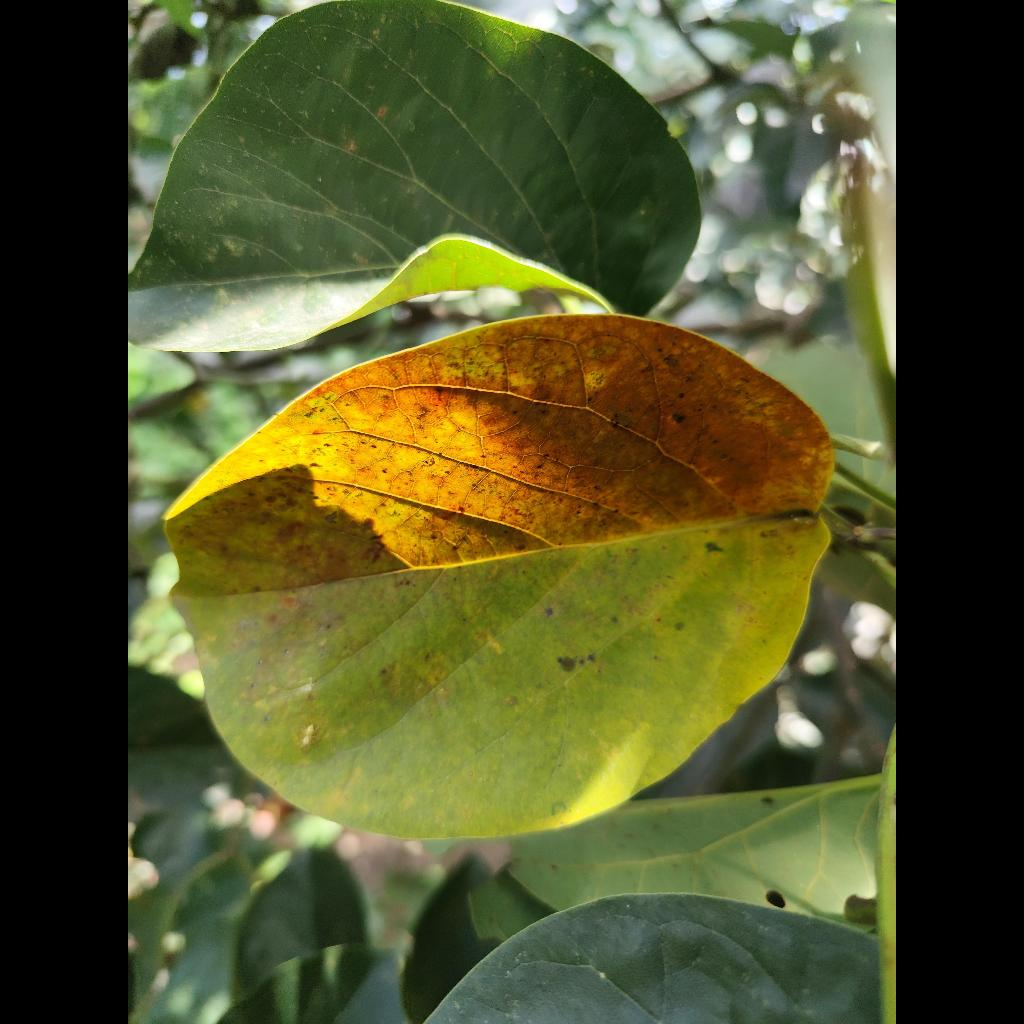nutrient_deficiency: (166, 315, 834, 838)
